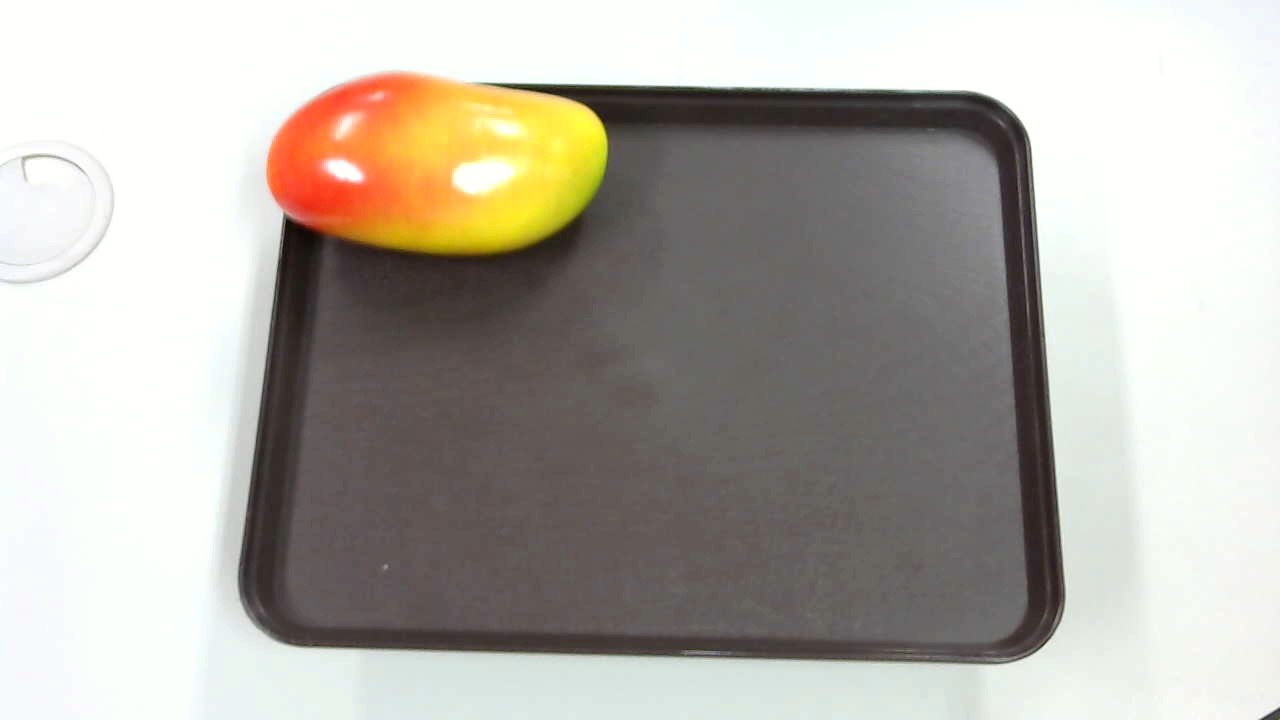red mango: (256, 71, 618, 261)
